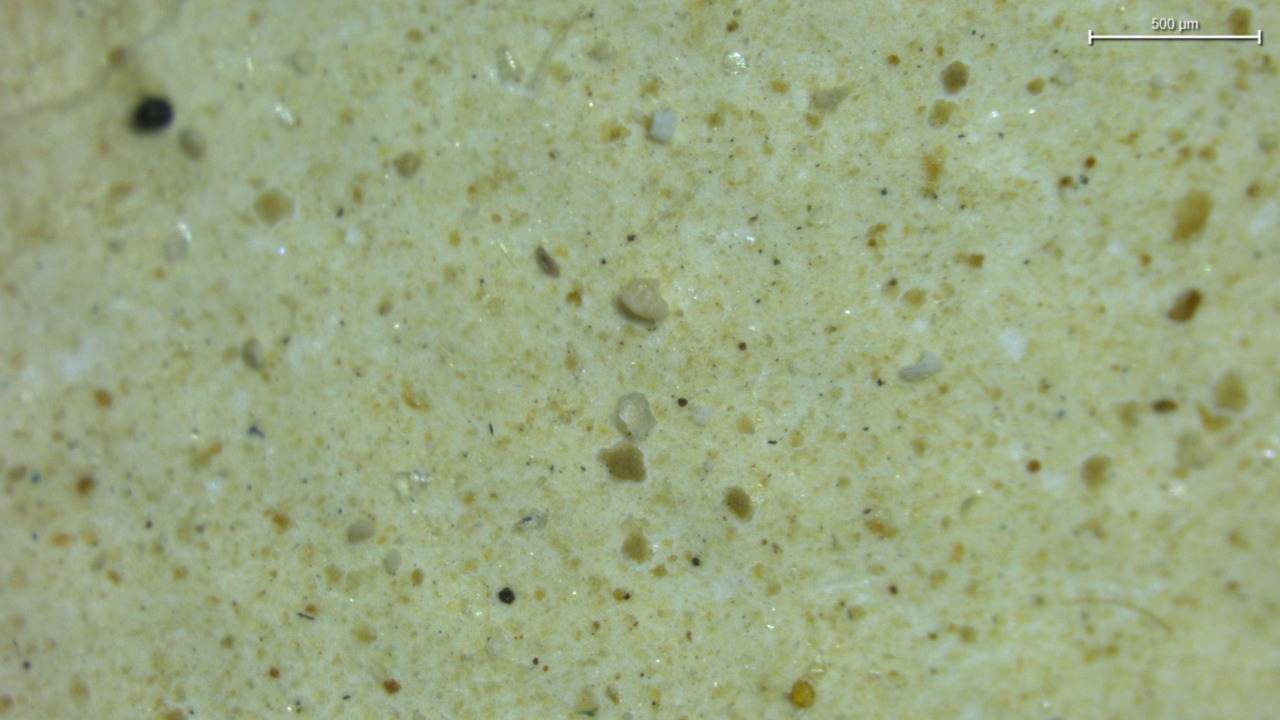microplastic_fragment: (620, 278, 668, 322), (618, 393, 656, 441), (899, 352, 943, 381), (647, 108, 675, 144)
